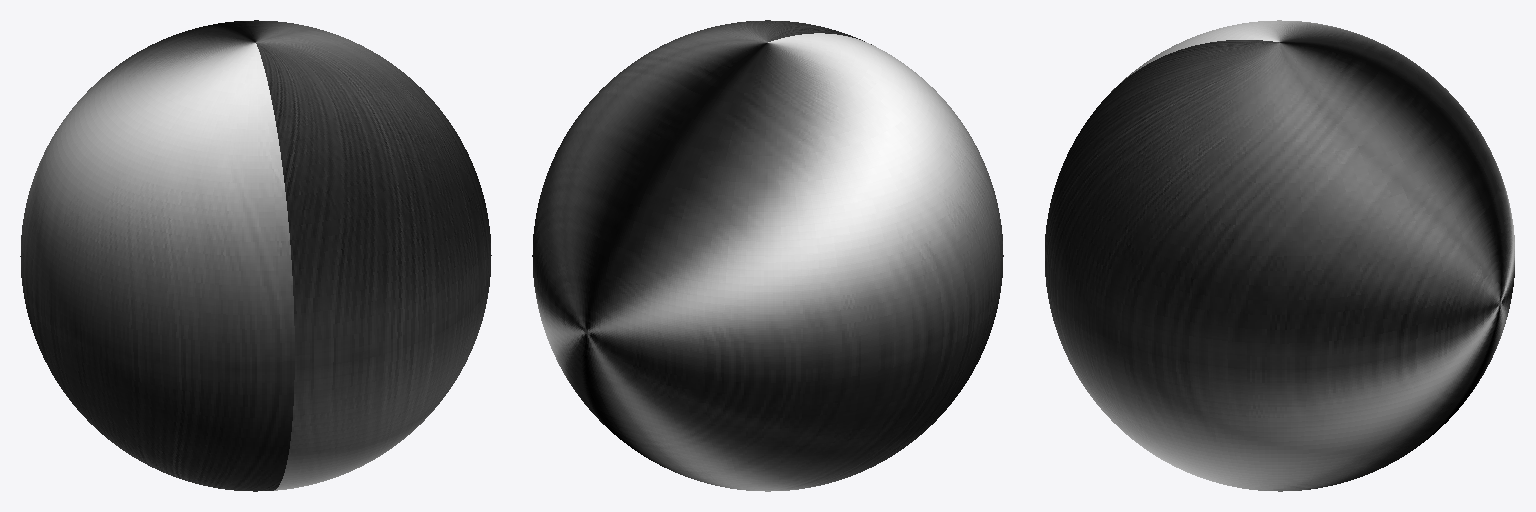
3 renders of one model, left to right at view 1: azimuth 30°, elevation 25°; view 2: azimuth 150°, elevation 25°; view 3: azimuth 270°, elevation 25°, orthographic.
Parts seen in each view (by area): view 1: Sphere001; view 2: Sphere001; view 3: Sphere001.
Part boxes in pixels (bbox=[...]): Sphere001: bbox=[20, 20, 491, 491]; Sphere001: bbox=[532, 20, 1003, 491]; Sphere001: bbox=[1045, 20, 1514, 491].
Size of the model in its own units: 117 by 117 by 117.
Materials: 1 (1 with a texture image).